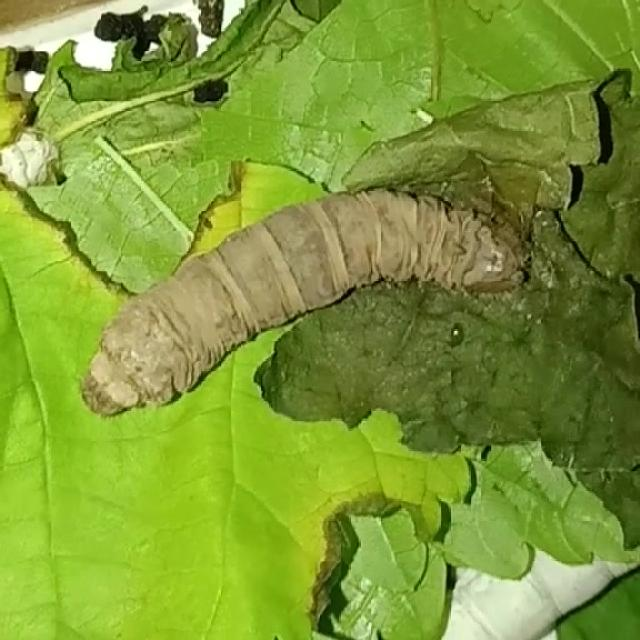Grasserie: (56, 156, 554, 456)
